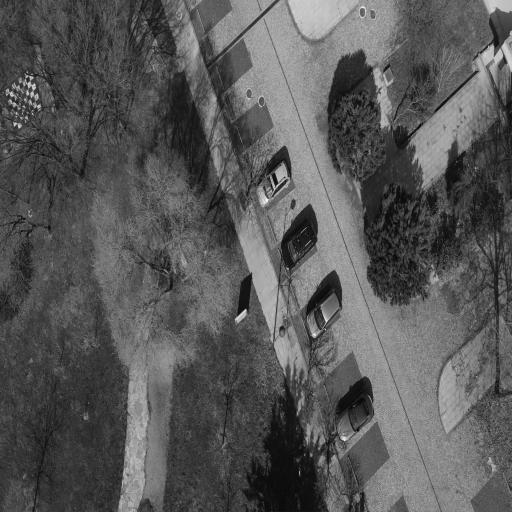person: (306, 288, 342, 339), (336, 393, 373, 441), (282, 220, 317, 270), (257, 161, 290, 206)
